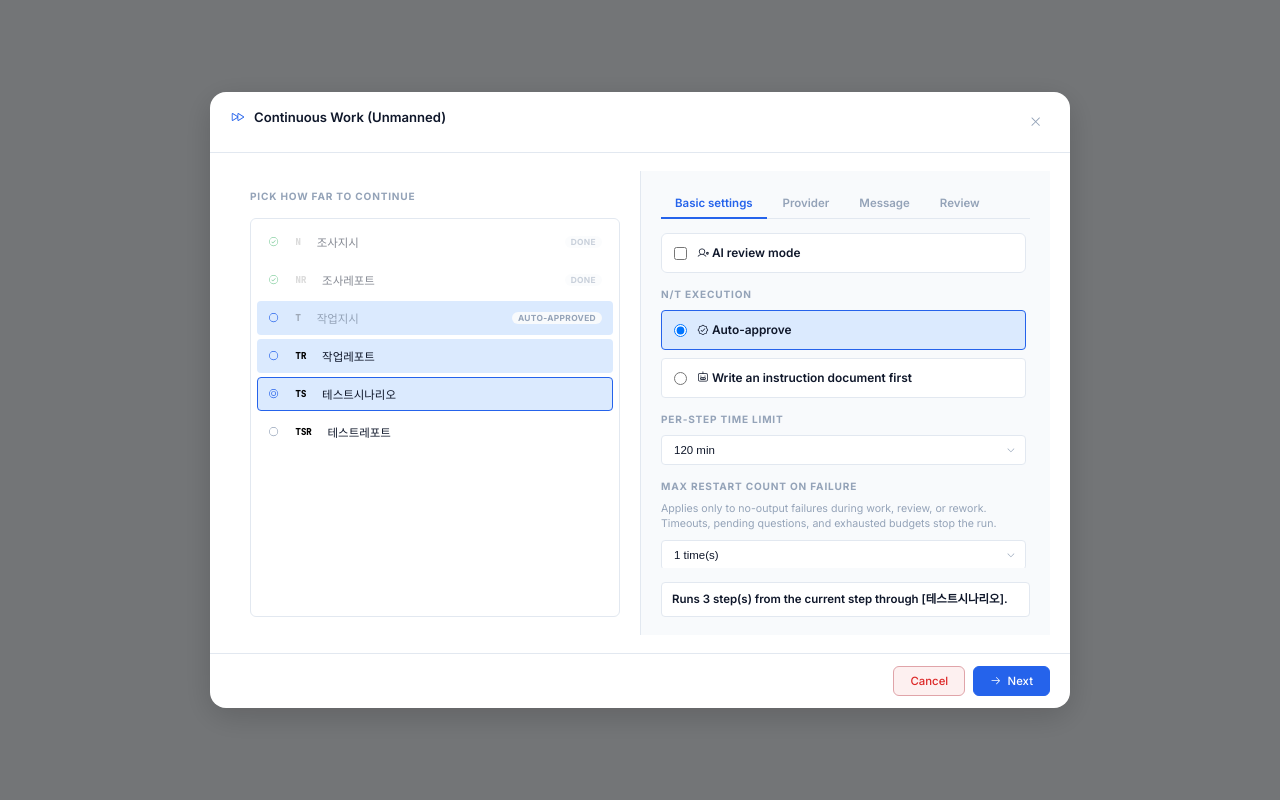
Test: ContinuousWorkDialog [검수] 탭 화면 (0414 T0012 작업 1) › 횟수 옵션의 DOM 순서는 정확히 -1, 0, 1, 2, 3 이고 모든 행의 기본값은 0 이다
Click the radio button labelled "Write an instruction document first": click(680, 378) x1=674 y1=372 x2=687 y2=385
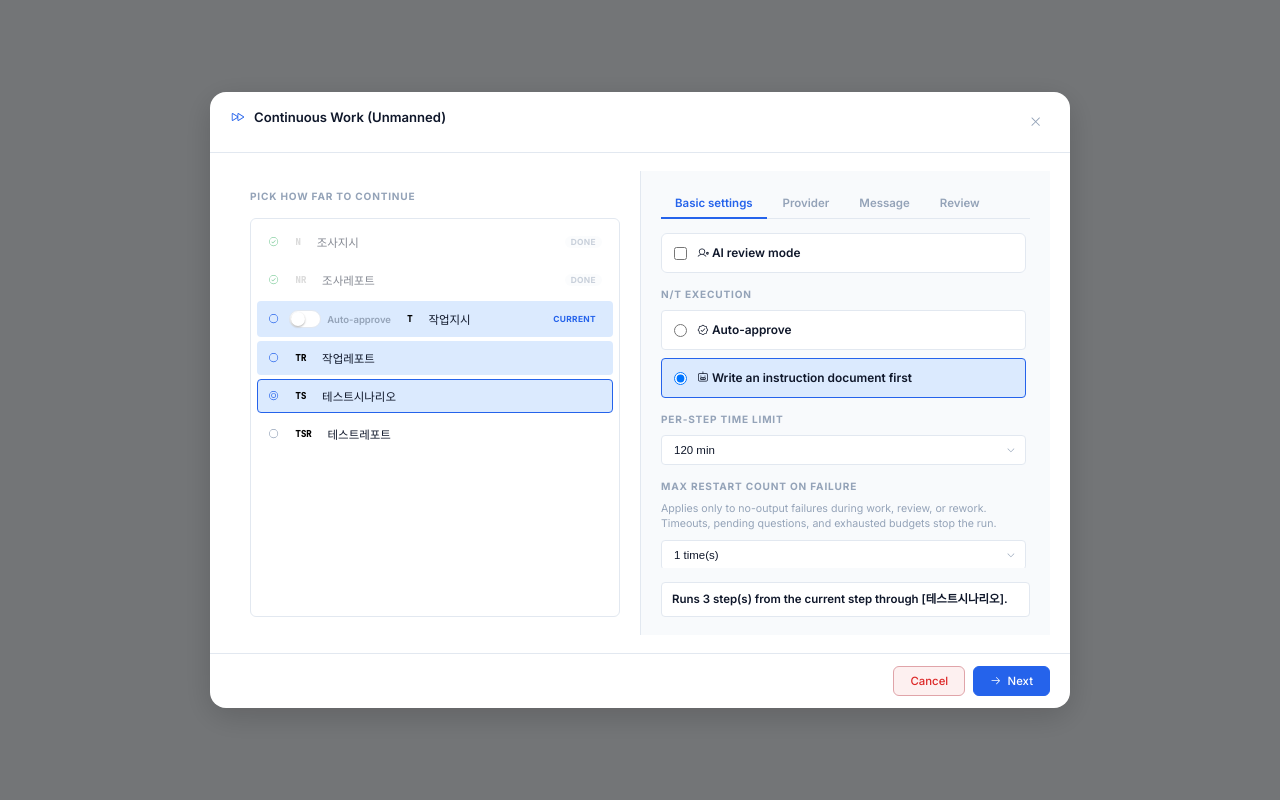
Click the button with class "wsp-step" showing "TSR 테스트레포트": click(359, 435) x1=257 y1=417 x2=613 y2=451
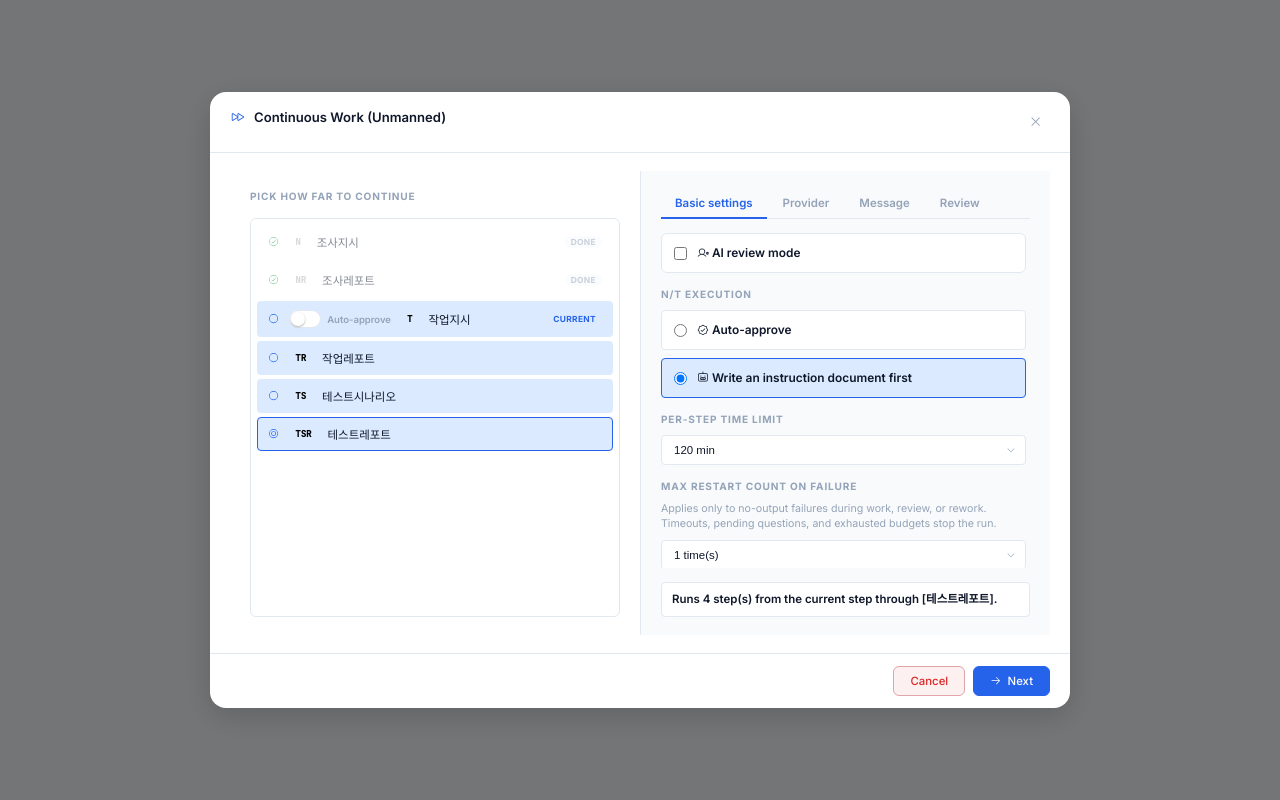
Click the button with class "cwd-tab" showing "Review": click(960, 204) x1=926 y1=189 x2=994 y2=219
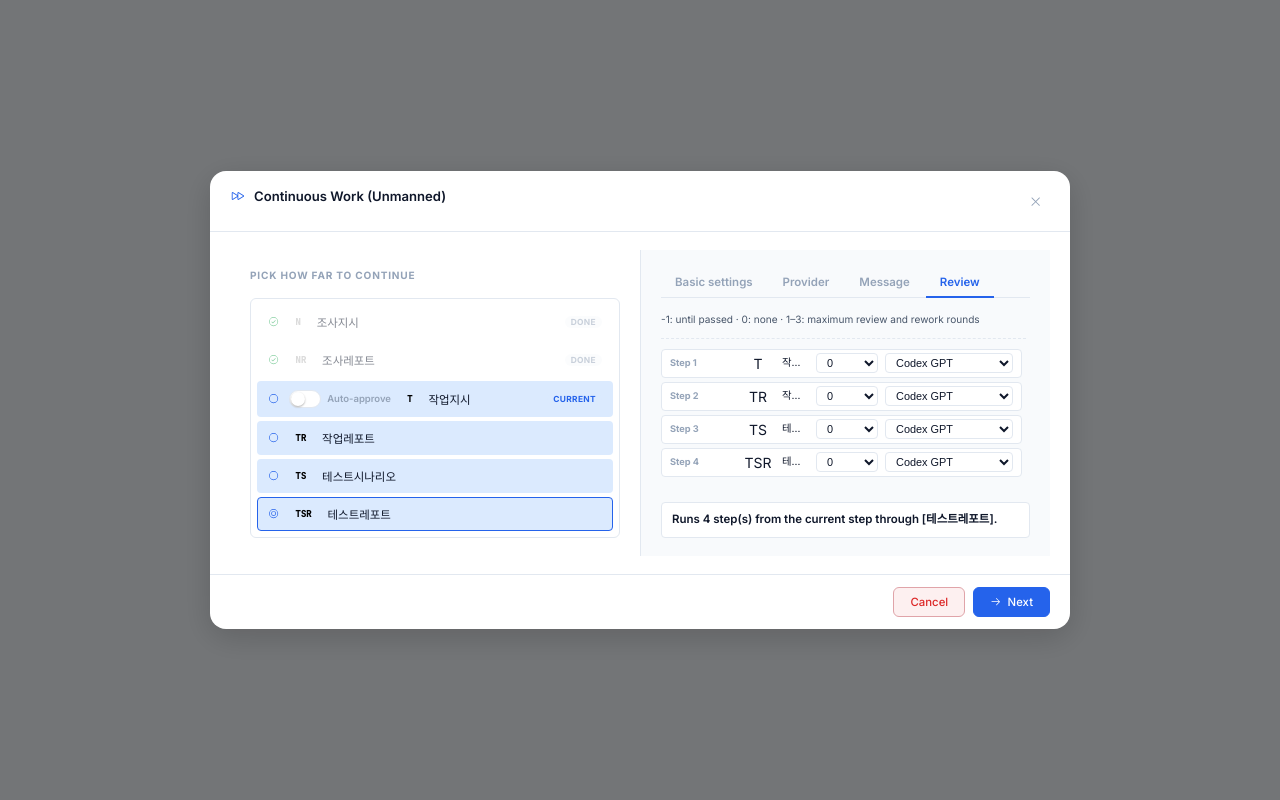
Expected: the dropdown with class "cwd-review-count-select" shows "0", x1=816 y1=353 x2=878 y2=373
